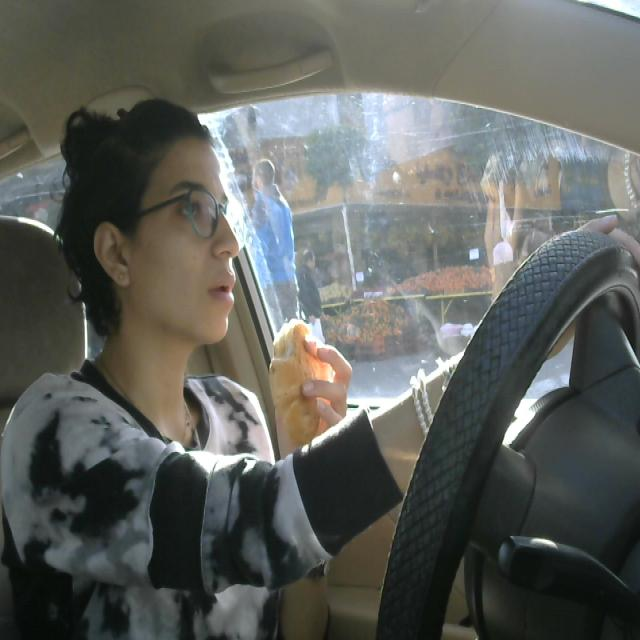eating: (258, 308, 331, 462)
